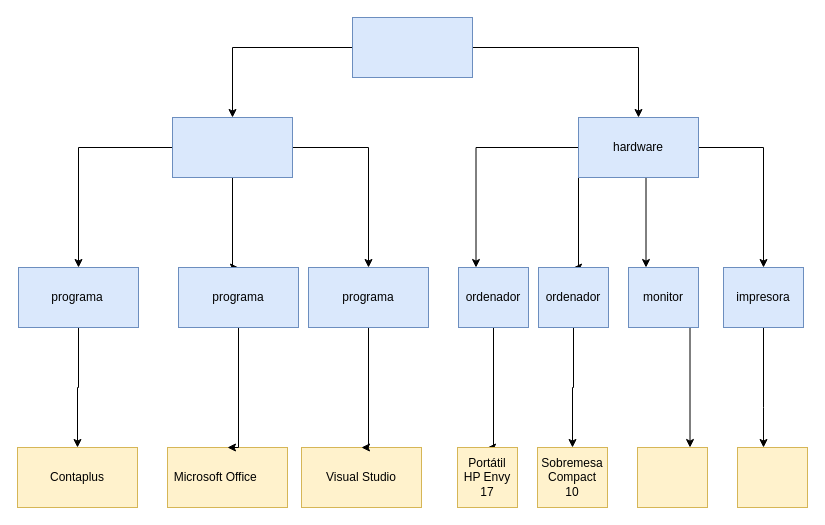
This 825x525 diagram has some shape labels left out. Here are the shapes that lost their labels. From the top down, the box of each, then its label:
(352, 16, 472, 78): inventario
(172, 116, 292, 178): programas
(636, 446, 708, 508): Monitor Acer
(736, 446, 808, 508): Impresora Brother
